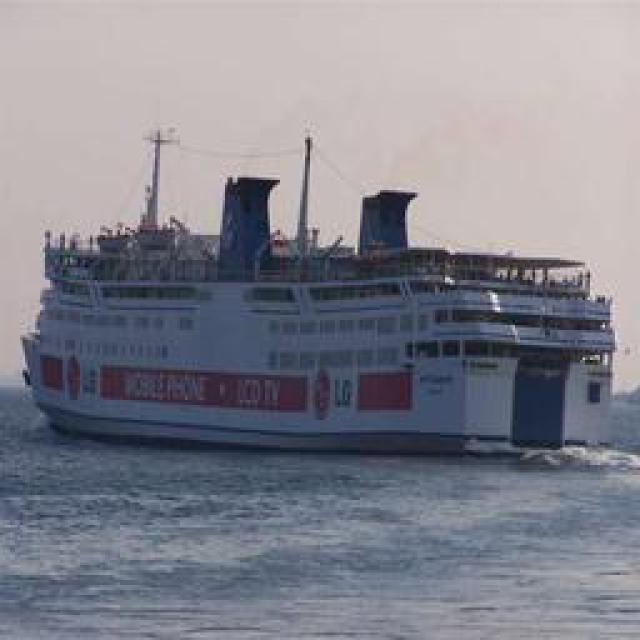Ship: (25, 120, 615, 455)
